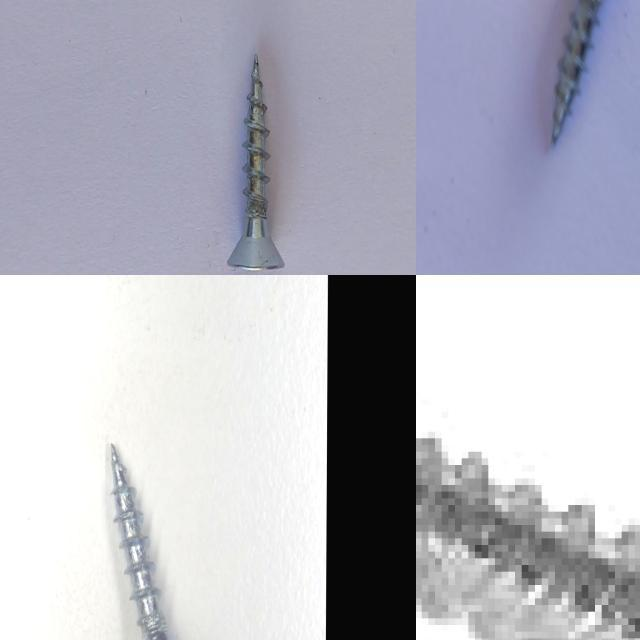Screw: (416, 399, 640, 640), (111, 443, 177, 640), (227, 54, 284, 270), (551, 0, 602, 145)
